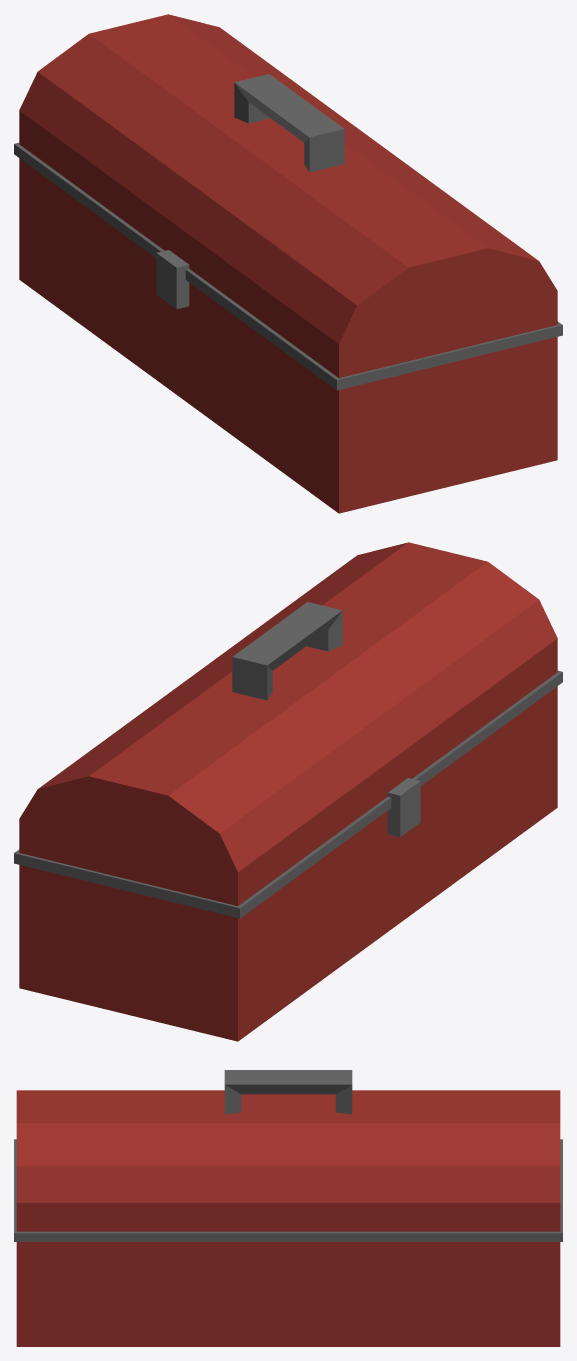
The model's file is Toolbox.fbx.
3 views of the same model, one above another, from view 1: azimuth 30°, elevation 25°; view 2: azimuth 150°, elevation 25°; view 3: azimuth 270°, elevation 25° (orthographic). The views are drawn at different scales.
Visible parts, largest first — view 1: Cube.006; view 2: Cube.006; view 3: Cube.006.
Boxes of the visible parts, left/top/right/bottom form: Cube.006: left=14, top=14, right=562, bottom=513; Cube.006: left=14, top=542, right=562, bottom=1041; Cube.006: left=14, top=1070, right=562, bottom=1346.
Size of the model in its own units: 72.57 by 77.94 by 173.
